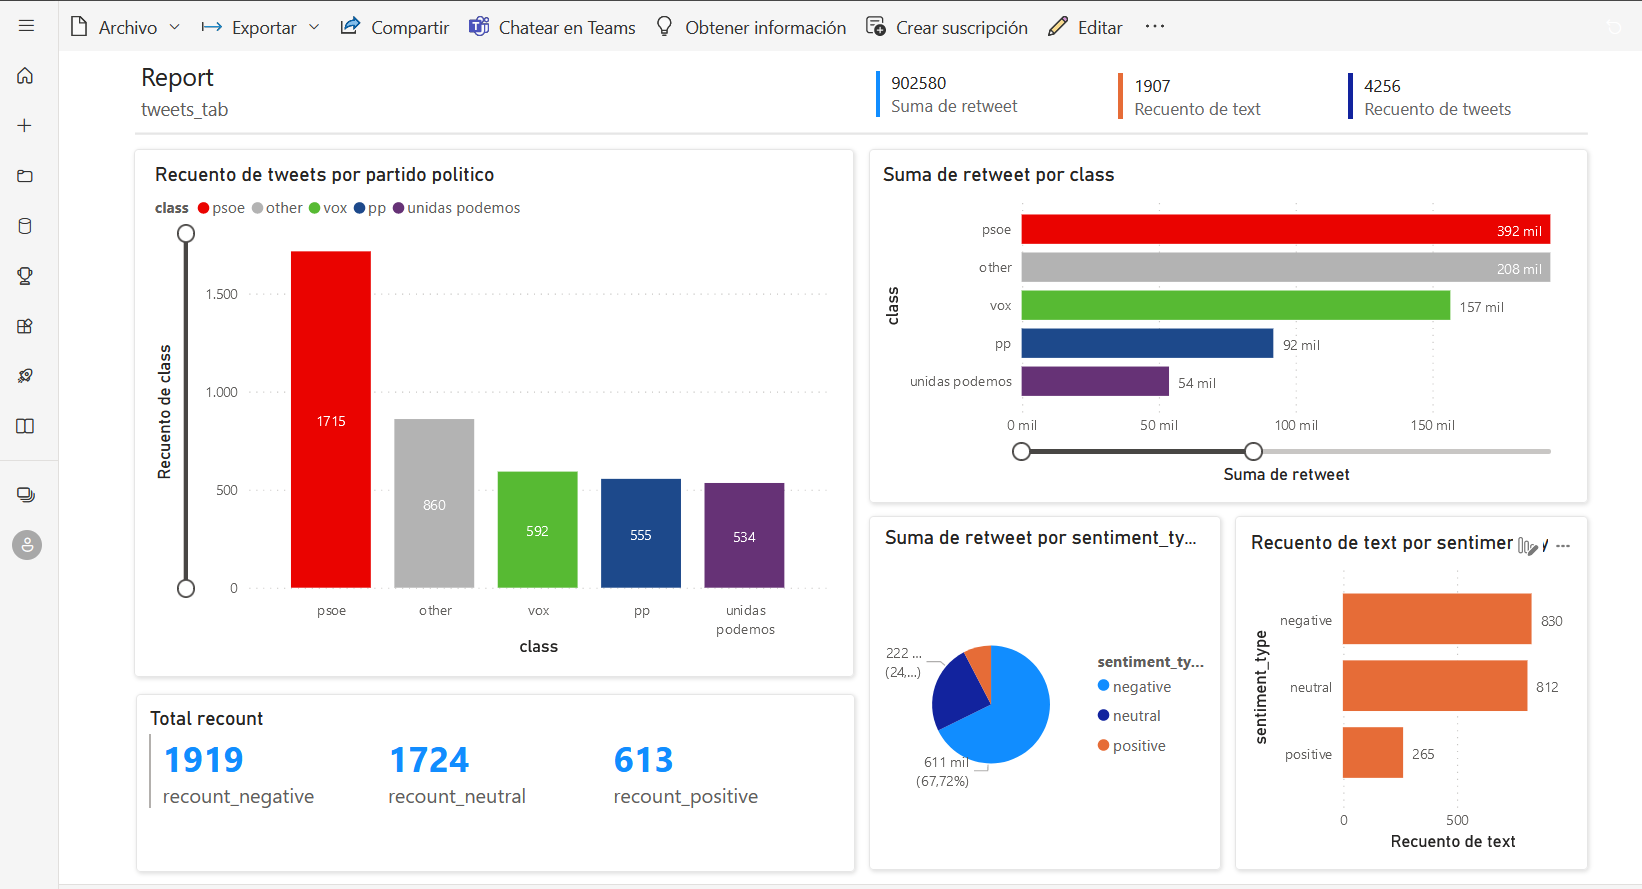

The dashboard page shown, as its layout file describes it:
{"tool":"powerbi","page":{"name":"Página 1","canvas":[1280,720],"ordinal":0},"visuals":[{"type":"shape","box":[12,58,1256,26],"z":0},{"type":"shape","box":[11.1,84.6,622.9,456.4],"z":1000},{"type":"shape","box":[646,84,622,306],"z":2000},{"type":"shape","box":[646,402,305,306],"z":3000},{"type":"shape","box":[963,402,305,306],"z":4000},{"type":"clusteredBarChart","fields":{"Category":["tweets_tab.sentiment_type"],"Y":["Count(tweets_tab.text)"]},"box":[971,414,289,282],"z":5000},{"type":"clusteredBarChart","fields":{"Category":["tweets_tab.class"],"Y":["Sum(tweets_tab.retweet)"]},"box":[654,96,606,282],"z":6000},{"type":"multiRowCard","fields":{"Values":["Count(tweets_tab.text)"]},"box":[856.8,14.1,198.3,50.5],"z":8000},{"type":"multiRowCard","fields":{"Values":["Sum(tweets_tab.retweet)"]},"box":[647,12,199,50],"z":9000},{"type":"textbox","box":[12,33,306,32],"z":10000},{"type":"textbox","box":[12,2,306,39],"z":11000},{"type":"shape","box":[12.5,555,621.5,154],"z":12000},{"type":"multiRowCard","title":"Total recount","fields":{"Values":["tweets_tab.recount_negative","tweets_tab.recount_neutral","tweets_tab.recount_positive"]},"box":[19.4,566.1,606.3,129],"z":13000},{"type":"pieChart","fields":{"Category":["tweets_tab.sentiment_type"],"Y":["Sum(tweets_tab.retweet)"]},"box":[654.8,409.3,287.2,291.4],"z":14000},{"type":"multiRowCard","fields":{"Values":["tweets_tab.class"]},"box":[1055.8,13.9,198.4,51.3],"z":15000},{"type":"columnChart","title":"Recuento de tweets por partido politico","fields":{"Category":["tweets_tab.class"],"Y":["CountNonNull(tweets_tab.class)"],"Series":["tweets_tab.class"]},"box":[23.6,95.7,592.4,431.5],"z":15001}]}

Visuals, with their boxes on the page's 1280x720 design canvas (x1, y1, x2, y2). These are canvas units, not pixel positions in the 1642x889 screenshot, which may show the page scaled, cropped or inside an application window:
shape: [12,58,1268,84]
shape: [11,85,634,541]
shape: [646,84,1268,390]
shape: [646,402,951,708]
shape: [963,402,1268,708]
clusteredBarChart - tweets_tab.sentiment_type x Count(tweets_tab.text): [971,414,1260,696]
clusteredBarChart - tweets_tab.class x Sum(tweets_tab.retweet): [654,96,1260,378]
multiRowCard - Count(tweets_tab.text): [857,14,1055,65]
multiRowCard - Sum(tweets_tab.retweet): [647,12,846,62]
textbox: [12,33,318,65]
textbox: [12,2,318,41]
shape: [12,555,634,709]
"Total recount" multiRowCard: [19,566,626,695]
pieChart - tweets_tab.sentiment_type x Sum(tweets_tab.retweet): [655,409,942,701]
multiRowCard - tweets_tab.class: [1056,14,1254,65]
"Recuento de tweets por partido politico" columnChart: [24,96,616,527]
